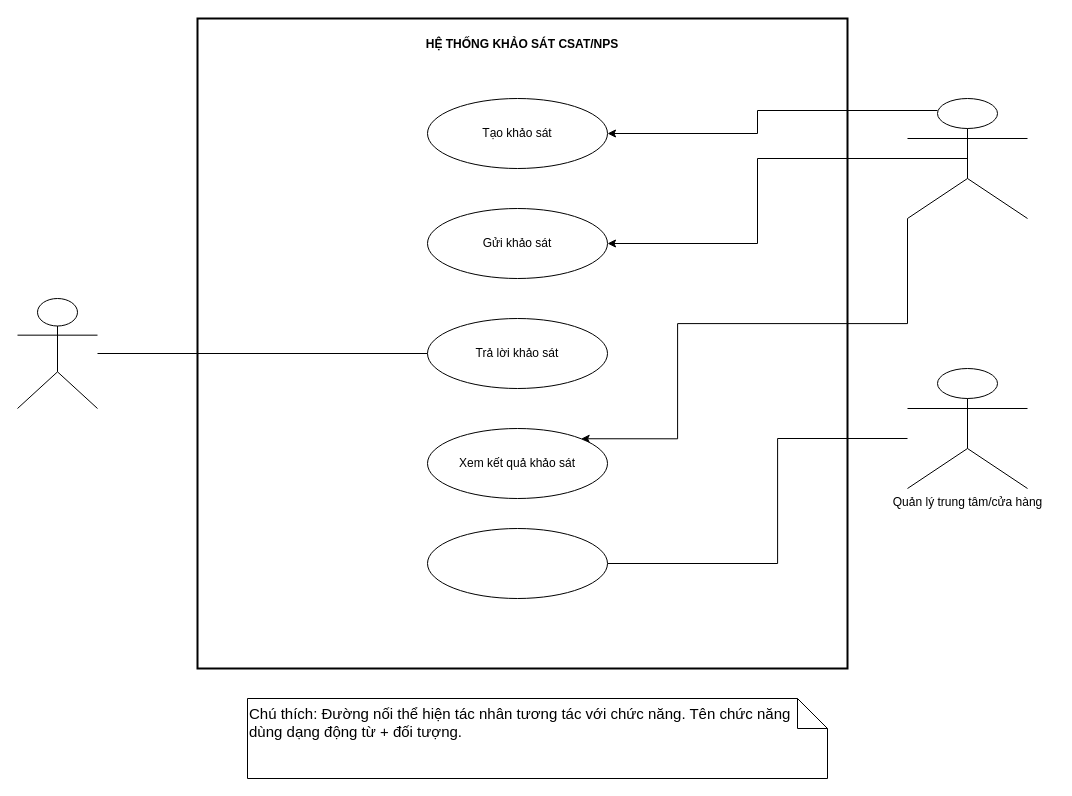
The diagram is 1072 pixels wide and 796 high, and some of its shapes have lost their labels. The shapes that lost their labels are listed below. From the top down, each one's box as (x1, y1, x2, y2) in pixels, then its label:
(906, 98, 1028, 218): Nhân viên chăm sóc khách hàng
(16, 298, 98, 408): Khách hàng
(426, 528, 608, 598): Xem tổng hợp CSAT/NPS
